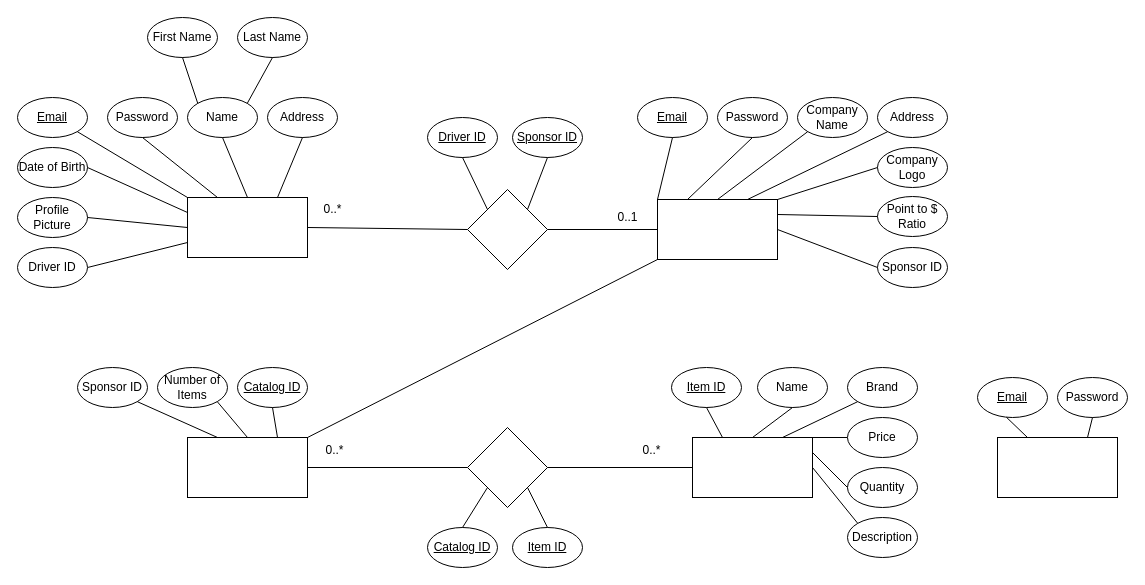
Image size: 1145x585. Some labels were removed from this diagram. The shapes that lost their labels are listed below. From the top down, each one's centre as x and y in pixels, then its label:
At (247,227): "Driver".
At (507,229): "Driver Sponsor".
At (717,229): "Sponsor".
At (247,467): "Catalog".
At (507,467): "Catalog/Item".
At (752,467): "Item".
At (1057,467): "Admin".
